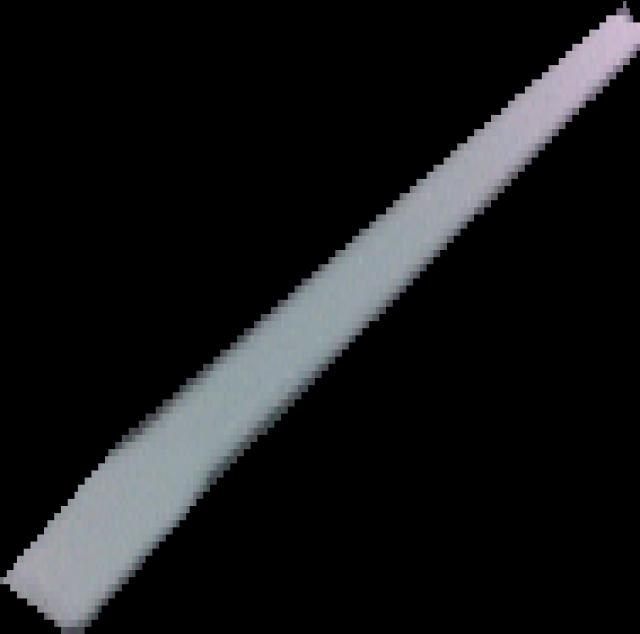lane: (1, 0, 640, 634)
